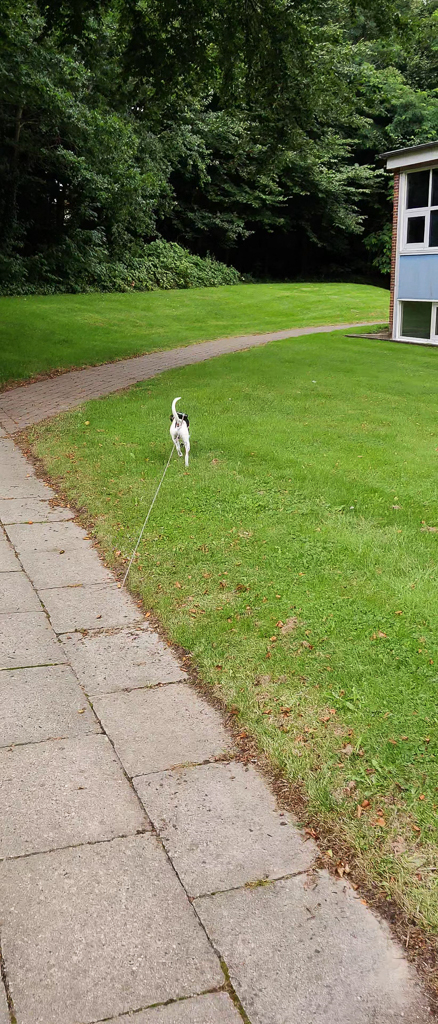Dog: (163, 393, 199, 473)
